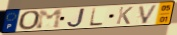J: (65, 8, 87, 29)
K: (115, 6, 135, 25)
L: (88, 7, 105, 27)
M: (36, 9, 63, 30)
O: (18, 9, 42, 31)
V: (137, 4, 159, 25)
